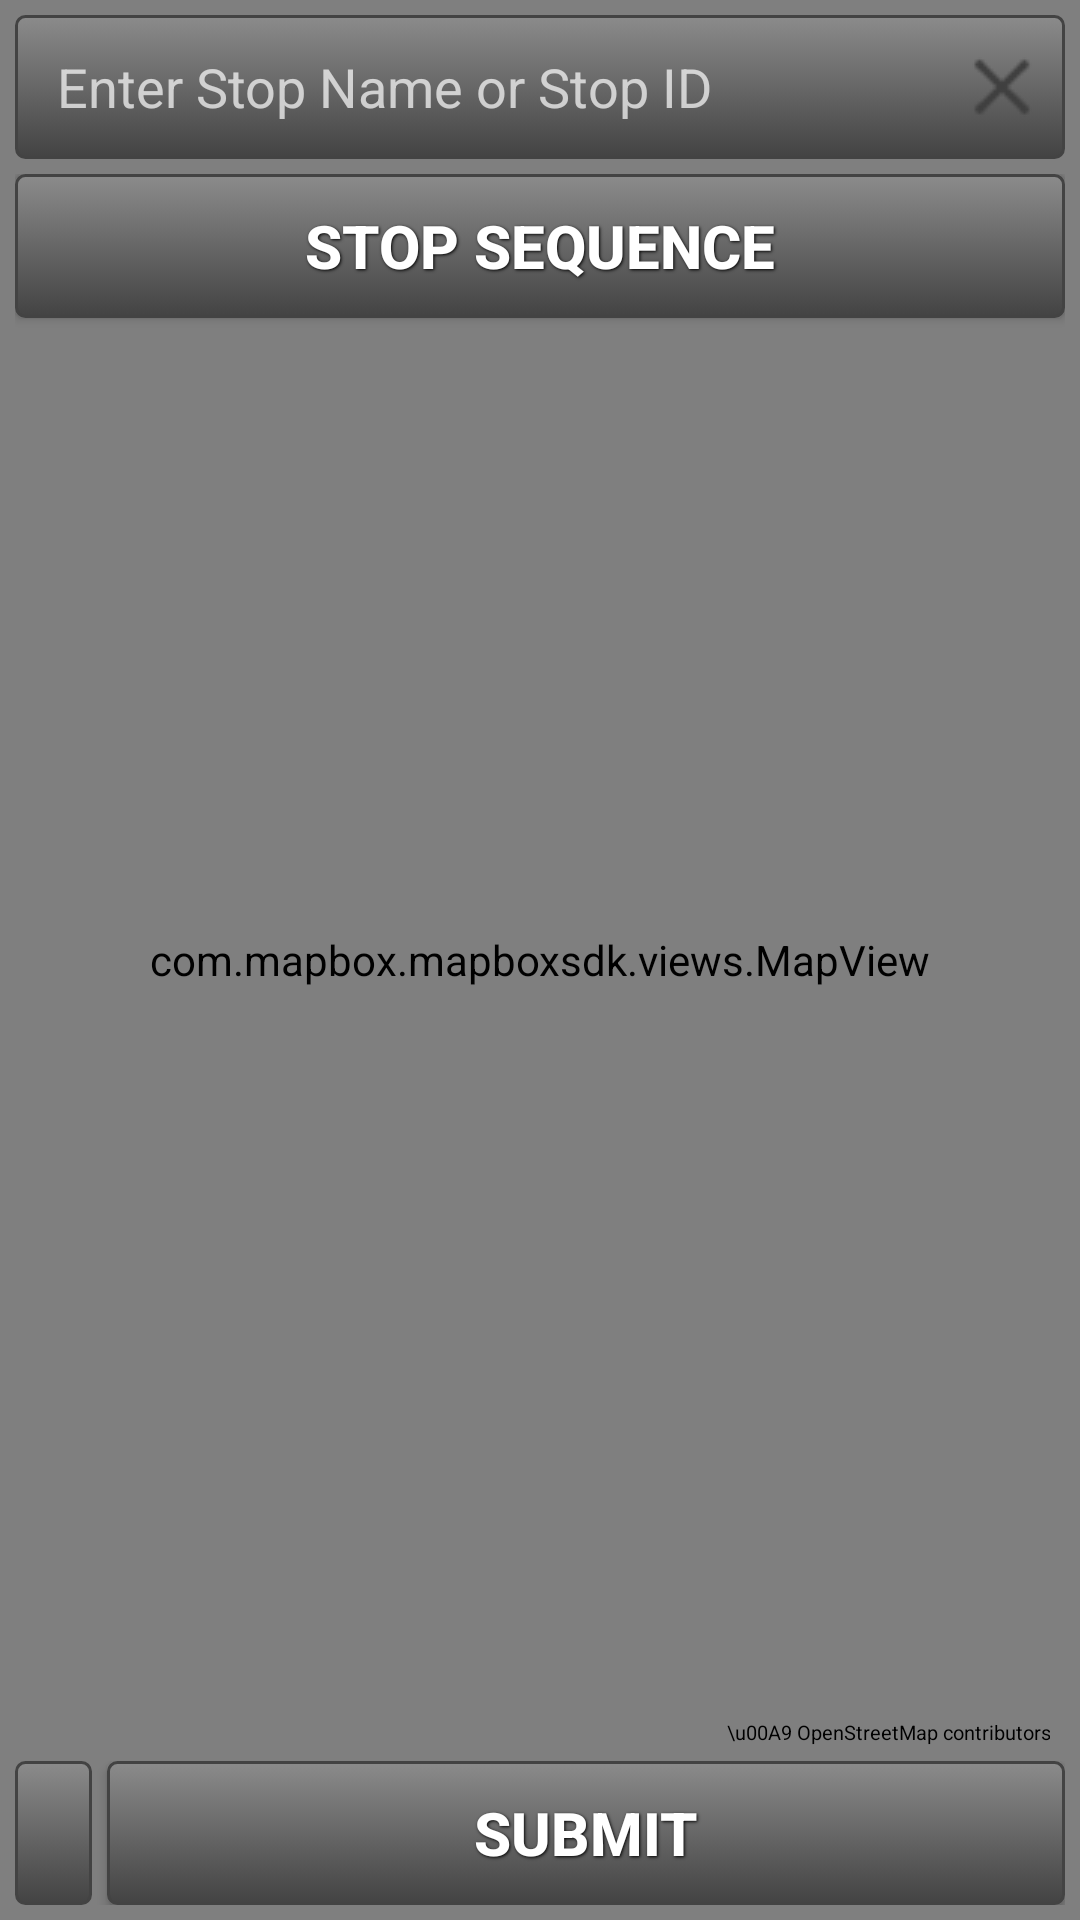

Where to tap for icons on this 1080*1920 app screen, as (x,y):
clear text: (1002,87)
